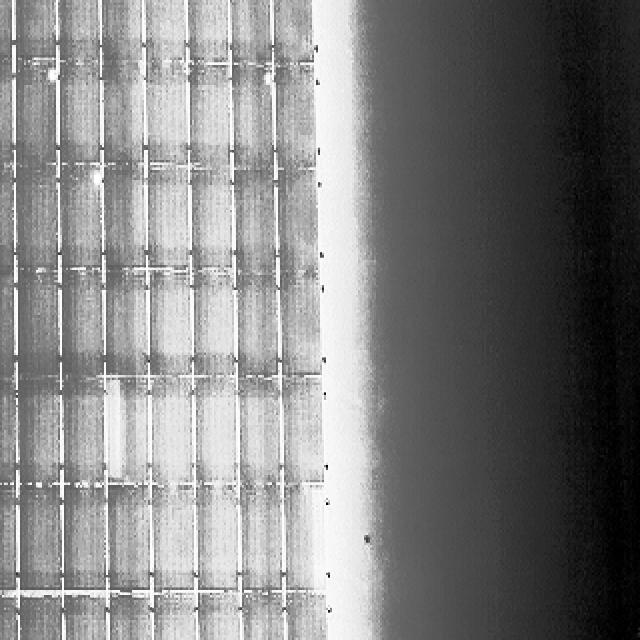Hotspots: (93, 171, 105, 193), (260, 74, 276, 90), (46, 66, 58, 86)
PV-modules: (192, 377, 238, 489), (58, 268, 104, 378), (107, 377, 153, 486), (106, 272, 152, 381), (59, 378, 105, 487), (18, 378, 64, 487), (149, 162, 196, 268), (280, 376, 325, 486), (194, 490, 240, 597), (153, 268, 198, 377), (240, 377, 284, 488), (149, 376, 193, 487), (60, 485, 106, 591), (20, 489, 66, 595), (96, 64, 142, 170), (276, 168, 321, 276), (16, 62, 60, 172), (18, 273, 62, 382), (56, 165, 102, 269), (107, 485, 152, 591), (235, 168, 280, 274), (149, 486, 194, 592), (238, 276, 283, 382), (282, 488, 327, 594), (192, 269, 236, 377), (16, 166, 61, 270), (57, 64, 102, 168), (278, 277, 323, 381), (187, 67, 231, 173), (273, 66, 316, 174), (188, 170, 232, 275), (234, 68, 278, 173), (241, 489, 285, 593), (104, 165, 148, 268), (142, 65, 186, 168), (77, 0, 143, 65), (218, 0, 274, 66), (270, 0, 317, 64), (140, 0, 187, 62), (186, 0, 232, 63), (55, 0, 100, 62), (11, 0, 56, 60), (242, 590, 288, 640), (60, 592, 106, 640), (284, 590, 328, 640), (108, 592, 152, 640), (196, 595, 242, 640), (20, 597, 68, 640), (0, 487, 18, 595), (156, 597, 200, 640), (0, 272, 16, 382), (0, 378, 16, 488), (0, 162, 16, 272), (0, 60, 10, 170), (0, 592, 20, 640), (0, 0, 16, 60)
